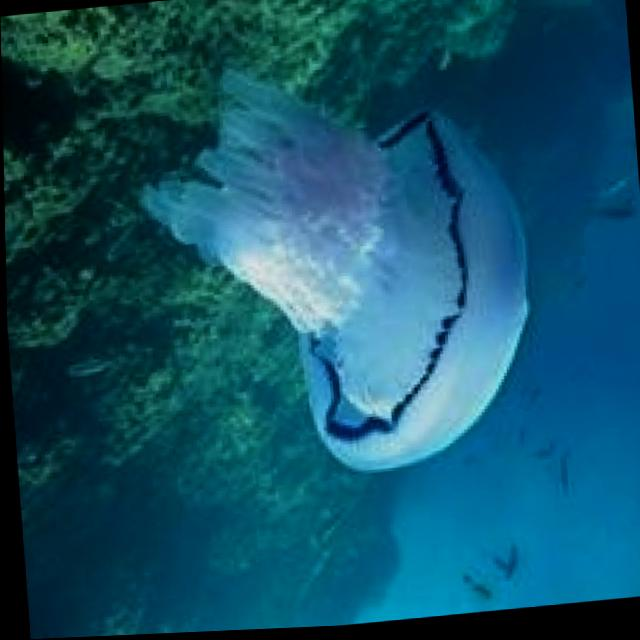Jellyfish: (125, 42, 543, 499)
